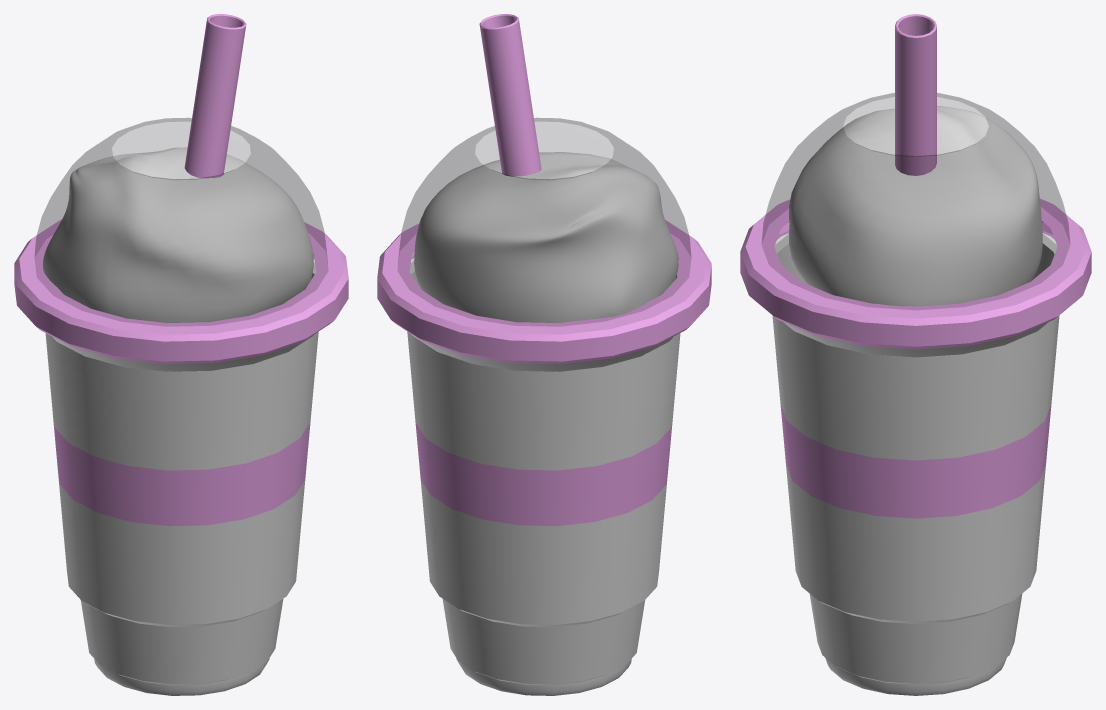
Rendered from milkshake.fbx.
3 views of the same model, side by side, from view 1: azimuth 30°, elevation 25°; view 2: azimuth 150°, elevation 25°; view 3: azimuth 270°, elevation 25° (orthographic). The views are drawn at different scales.
Parts seen in each view (by area): view 1: MilkShake_OBJ_low:Mesh; view 2: MilkShake_OBJ_low:Mesh; view 3: MilkShake_OBJ_low:Mesh.
Part boxes in pixels (x1,y1,x2,y2): MilkShake_OBJ_low:Mesh: (14, 14, 348, 695); MilkShake_OBJ_low:Mesh: (377, 14, 711, 695); MilkShake_OBJ_low:Mesh: (740, 14, 1091, 695).
Bounding box in the file's own units: 4.45 × 9.23 × 4.45.
